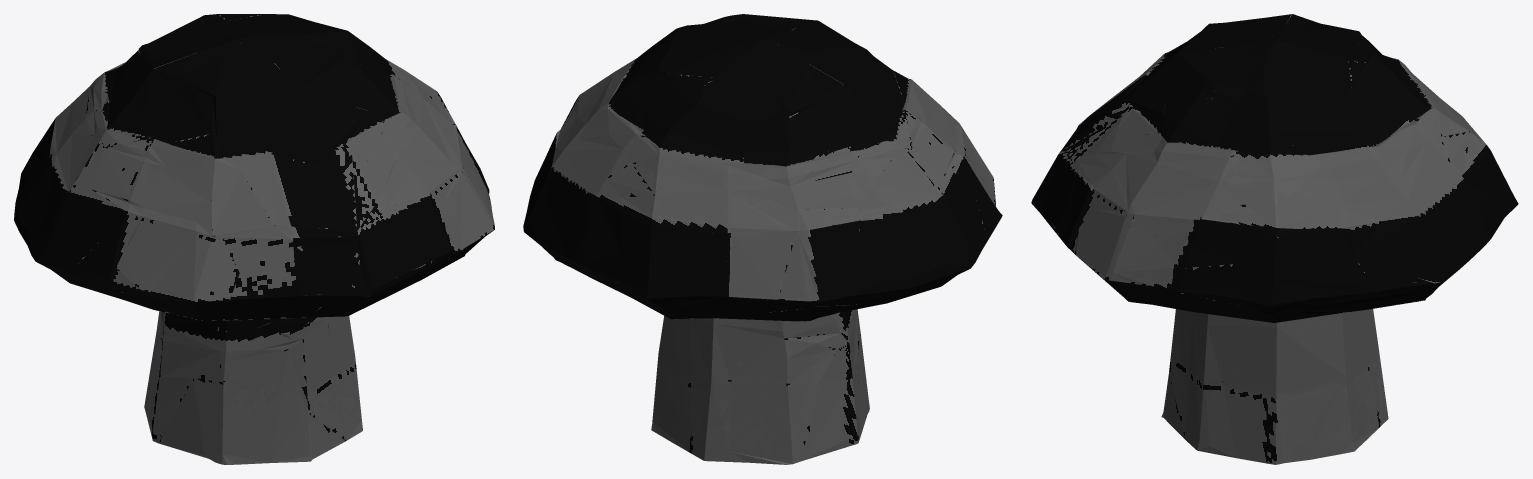
3 renders of one model, left to right at view 1: azimuth 30°, elevation 25°; view 2: azimuth 150°, elevation 25°; view 3: azimuth 270°, elevation 25°, orthographic.
Parts seen in each view (by area): view 1: OBJ0b8; view 2: OBJ0b8; view 3: OBJ0b8.
Boxes of the visible parts, x1=… form: OBJ0b8: x1=14, y1=14, x2=494, y2=464; OBJ0b8: x1=523, y1=14, x2=1002, y2=464; OBJ0b8: x1=1031, y1=14, x2=1518, y2=464.
Bounding box in the file's own units: 0.1706 × 0.147 × 0.1714.
1 material, 1 textured.
